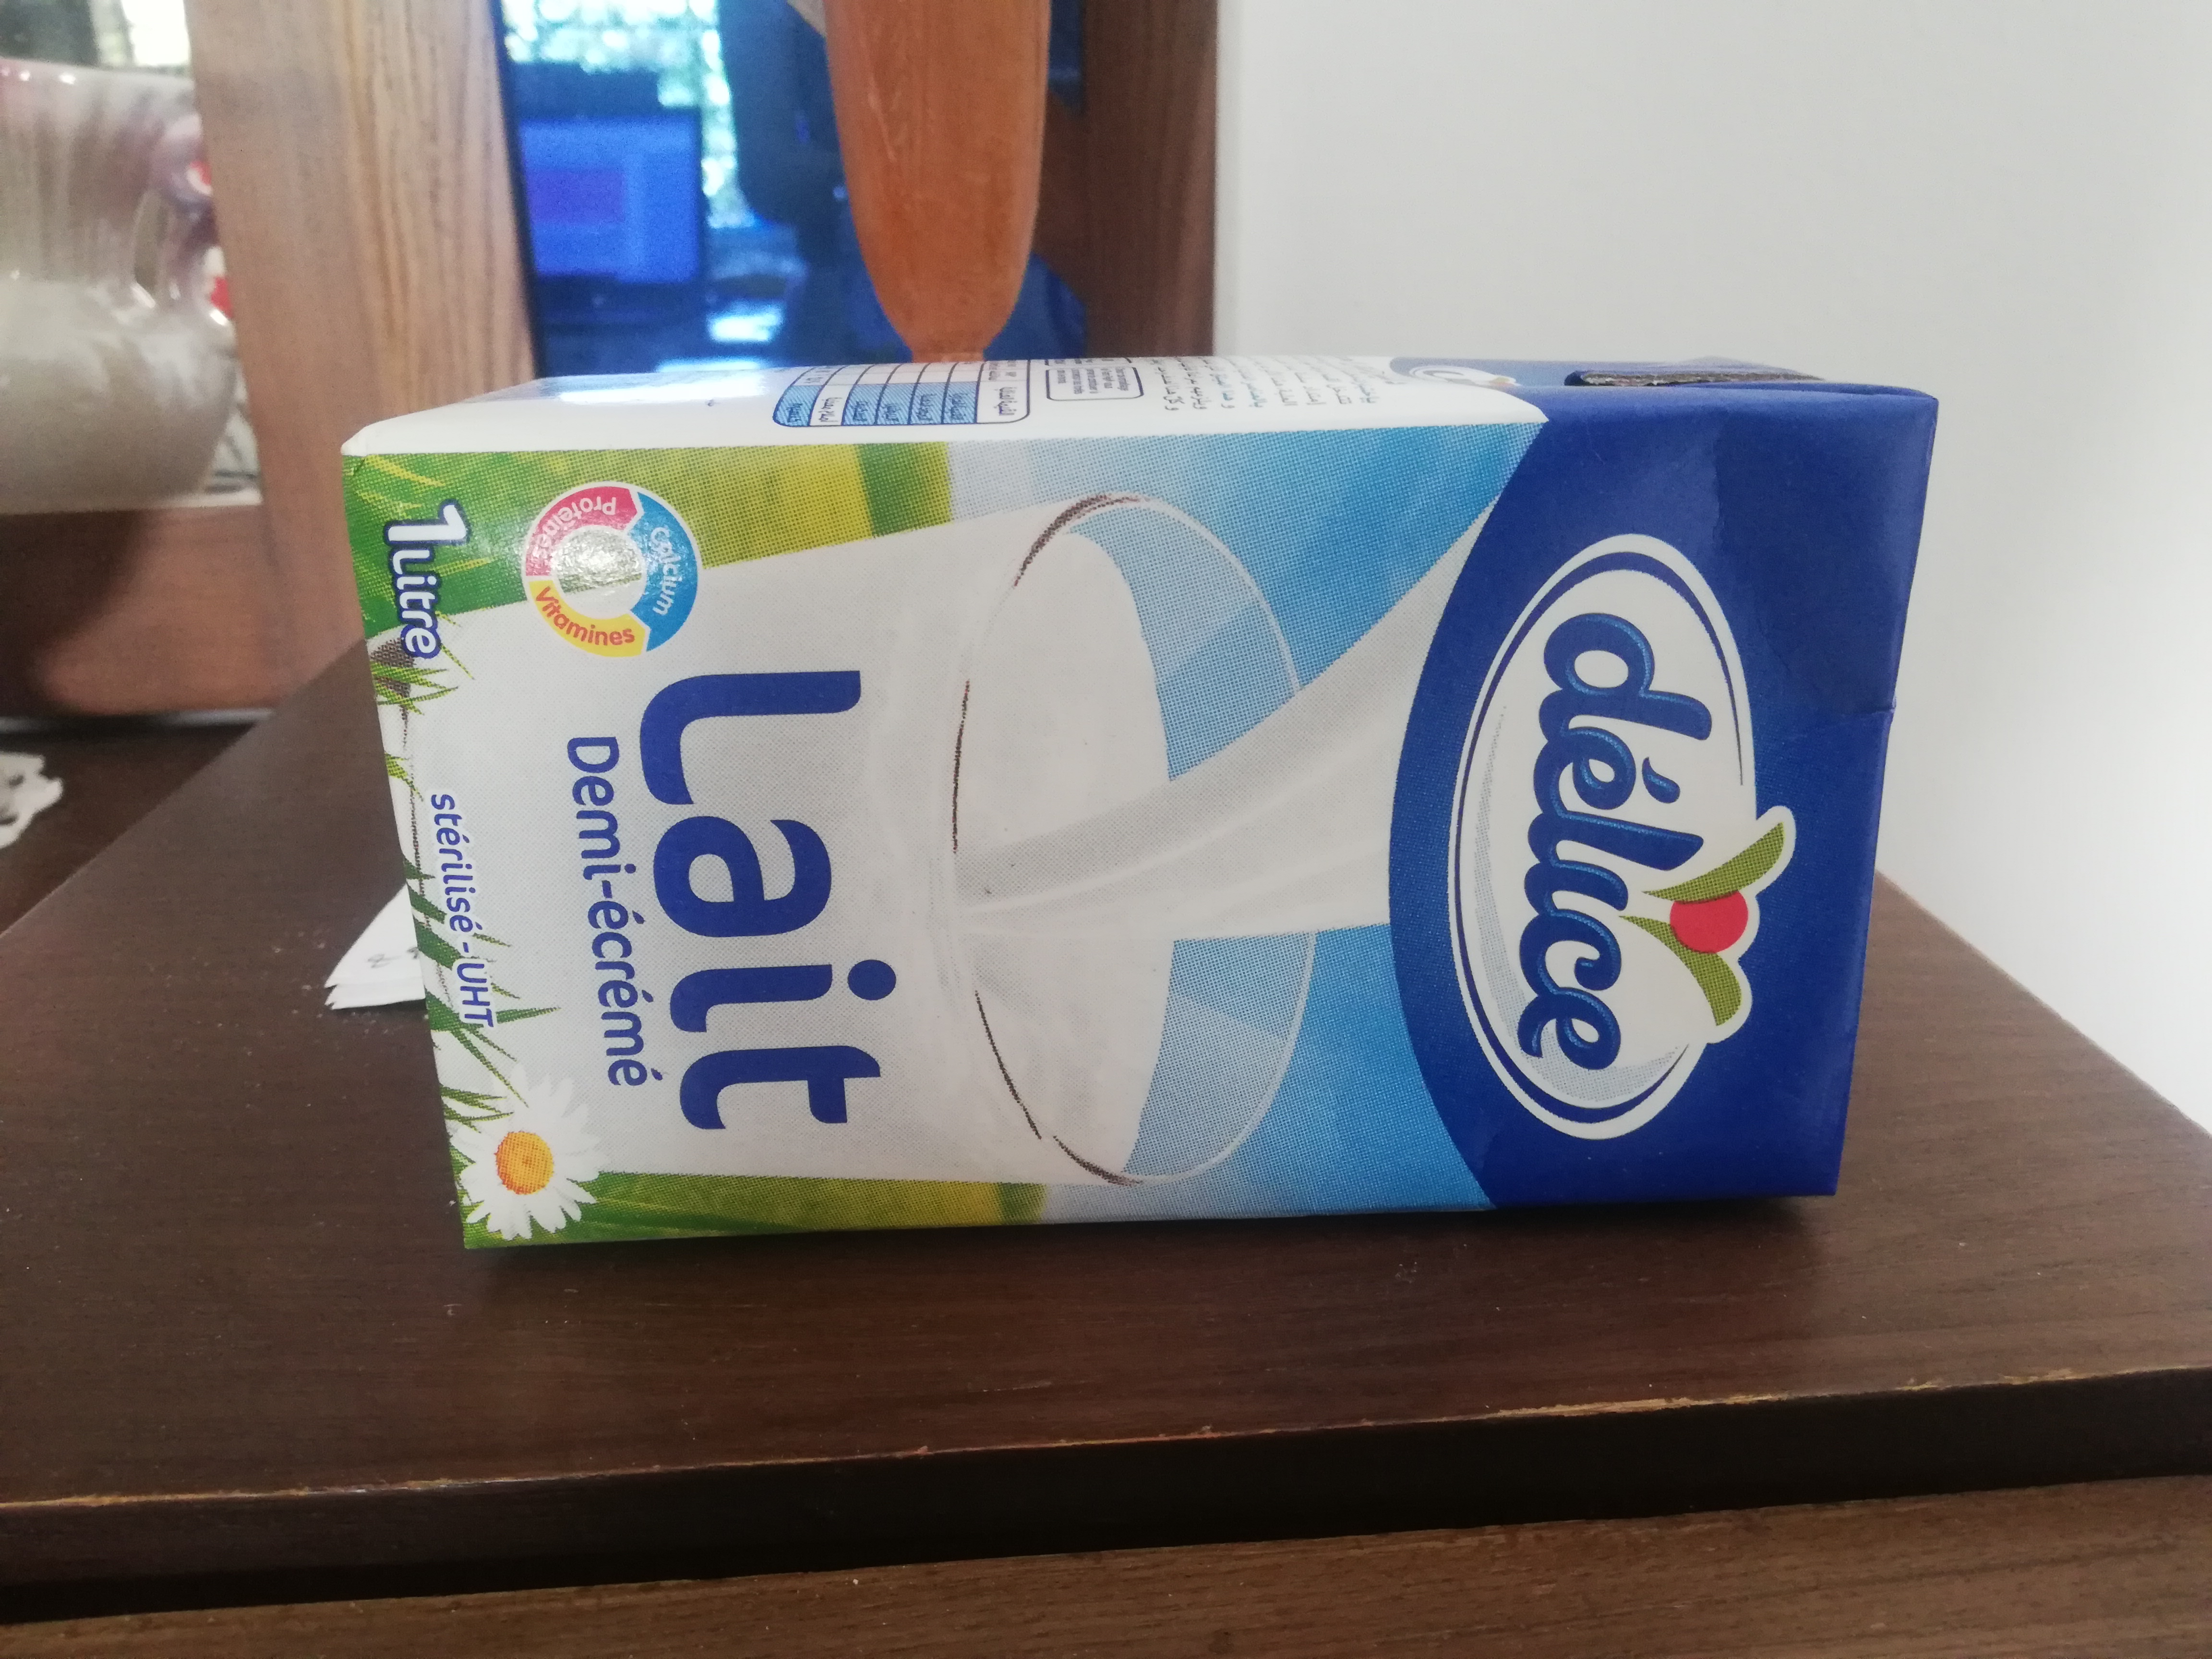Lait delice: (338, 364, 1942, 1253)
